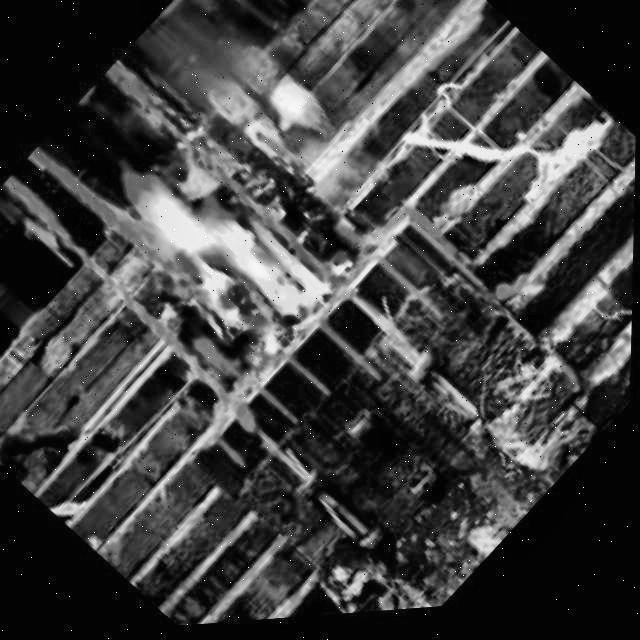Fire: (101, 121, 349, 376)
